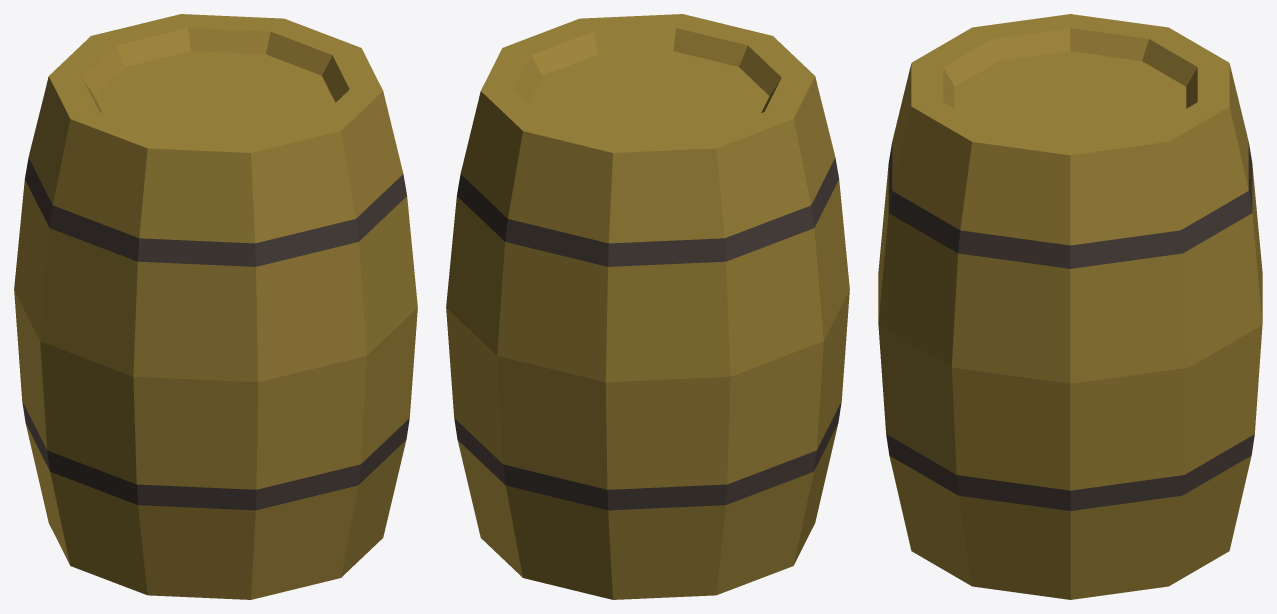
The model's file is barrel.FBX.
3 renders of one model, left to right at view 1: azimuth 30°, elevation 25°; view 2: azimuth 150°, elevation 25°; view 3: azimuth 270°, elevation 25°, orthographic.
Parts seen in each view (by area): view 1: barrel; view 2: barrel; view 3: barrel.
Part boxes in pixels (x1,y1,x2,y2): barrel: (14, 14, 417, 599); barrel: (446, 14, 849, 599); barrel: (878, 14, 1262, 599).
Size of the model in its own units: 55.7 by 67.66 by 52.98.
